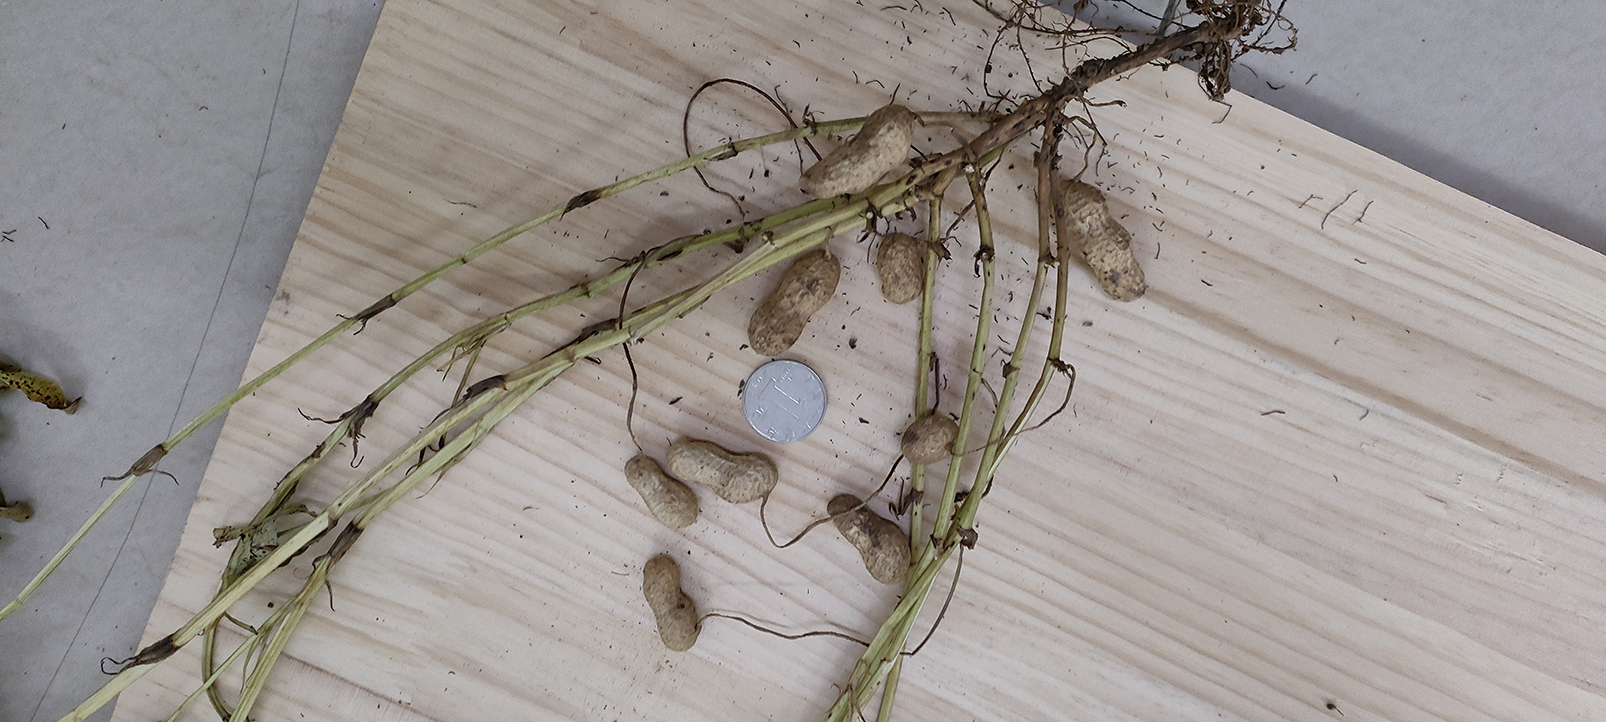h: (798, 103, 915, 199), (1061, 182, 1146, 303), (748, 249, 840, 356), (666, 440, 778, 506), (622, 454, 699, 528), (642, 555, 701, 652), (878, 233, 925, 304), (898, 413, 959, 463)
l: (826, 492, 910, 582)
